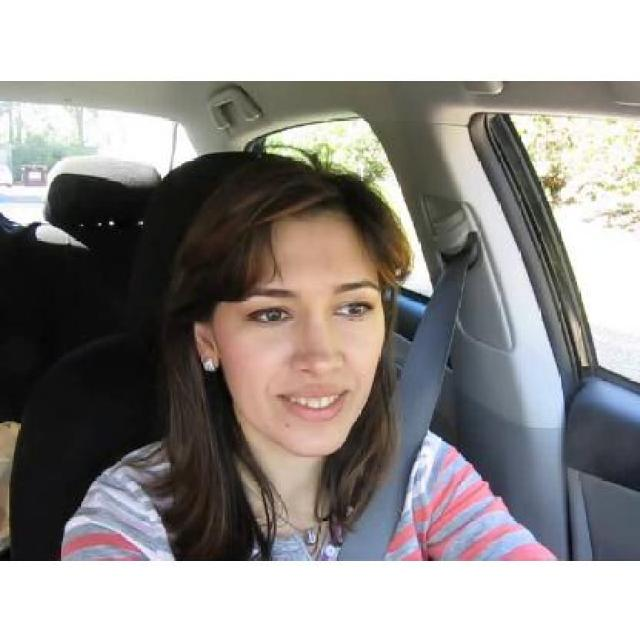attentif: (190, 158, 385, 454)
